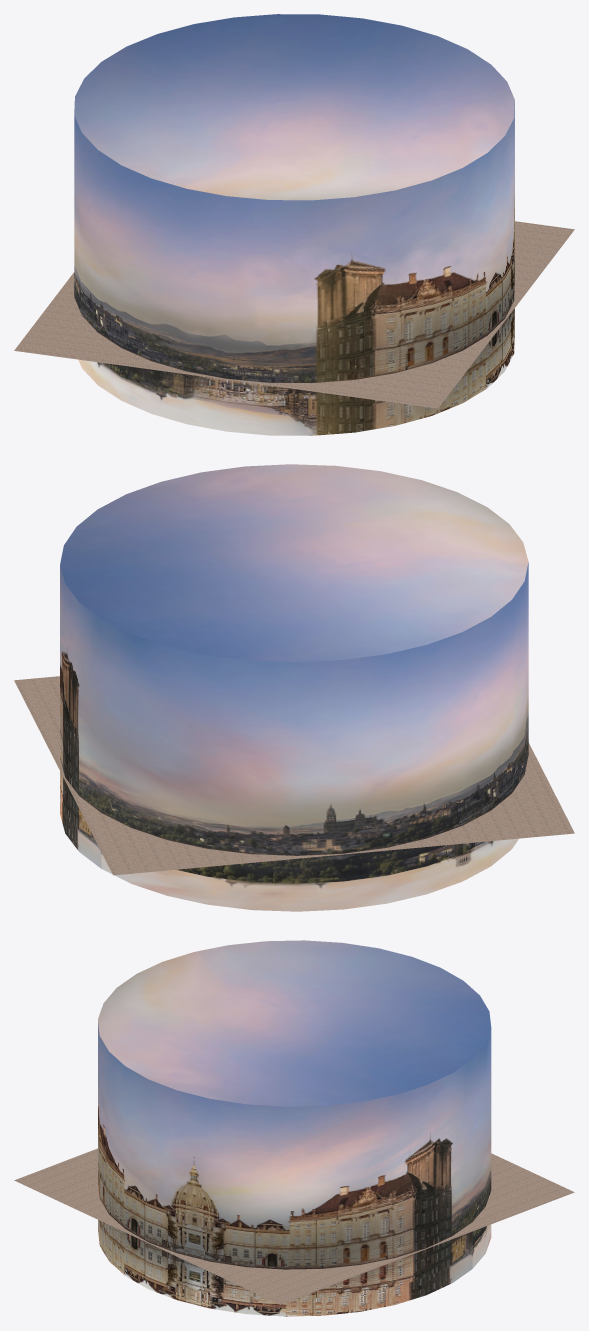
Rendered from changjing_2_4k.glb.
The picture shows the model from 3 angles, top to bottom: view 1: azimuth 30°, elevation 25°; view 2: azimuth 150°, elevation 25°; view 3: azimuth 270°, elevation 25°; orthographic projection. The views are drawn at different scales.
Visible parts, largest first — view 1: oswaijing, oswaijingdimian; view 2: oswaijing, oswaijingdimian; view 3: oswaijing, oswaijingdimian.
Boxes of the visible parts, left/top/right/bottom form: oswaijing: left=74, top=14, right=514, bottom=435; oswaijingdimian: left=14, top=221, right=574, bottom=408; oswaijing: left=60, top=464, right=528, bottom=911; oswaijingdimian: left=14, top=676, right=574, bottom=875; oswaijing: left=98, top=940, right=491, bottom=1316; oswaijingdimian: left=14, top=1148, right=574, bottom=1304.
Bounding box in the file's own units: 245 × 101 × 245.
2 materials, 2 textured.
